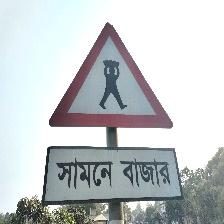Market-in-front: (46, 23, 183, 201)
